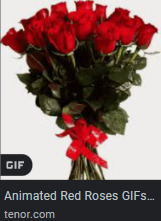RedRose: (47, 20, 78, 55), (95, 21, 119, 55), (69, 10, 95, 41), (119, 15, 139, 46), (137, 22, 156, 51)
